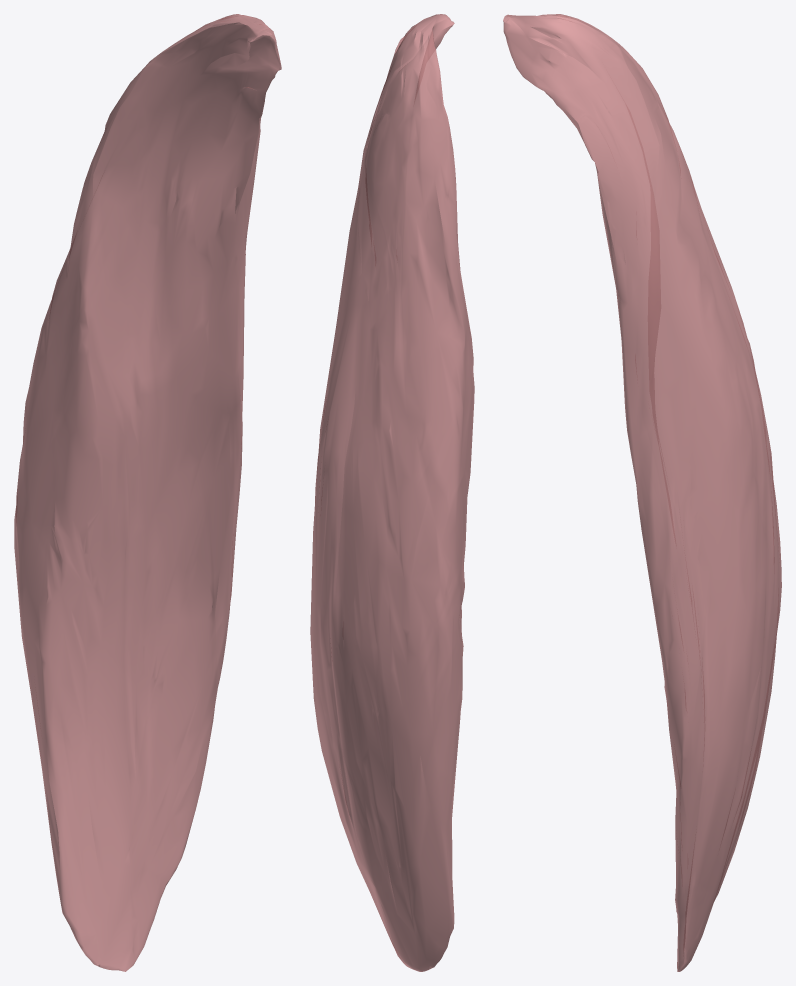
3 renders of one model, left to right at view 1: azimuth 30°, elevation 25°; view 2: azimuth 150°, elevation 25°; view 3: azimuth 270°, elevation 25°, orthographic. The views are drawn at different scales.
Visible parts, largest first — view 1: BP7939_lateral_head_of_left_gastrocnemius; view 2: BP7939_lateral_head_of_left_gastrocnemius; view 3: BP7939_lateral_head_of_left_gastrocnemius.
Part boxes in pixels (x1=…): BP7939_lateral_head_of_left_gastrocnemius: x1=14, y1=14, x2=281, y2=971; BP7939_lateral_head_of_left_gastrocnemius: x1=310, y1=14, x2=474, y2=971; BP7939_lateral_head_of_left_gastrocnemius: x1=503, y1=14, x2=781, y2=971.
Bounding box in the file's own units: 0.0558 × 0.2905 × 0.0748.
